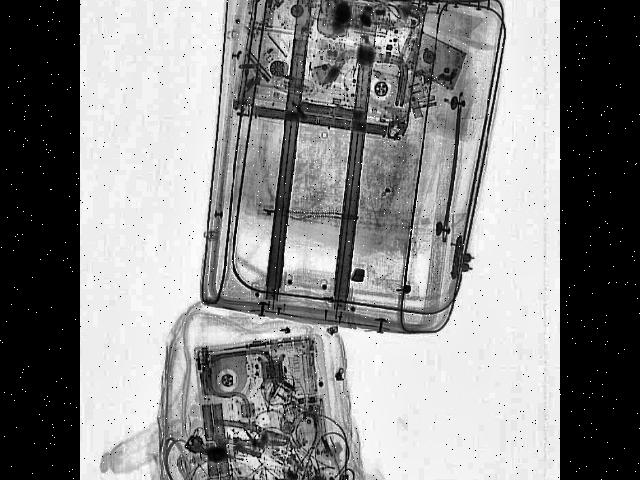Pliers: (210, 419, 292, 453)
